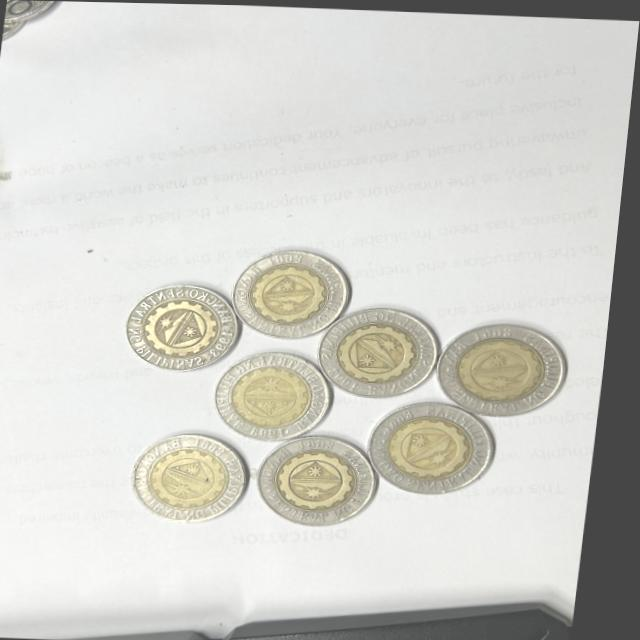10_Old_Back: (450, 321, 581, 413), (322, 306, 447, 396), (129, 280, 242, 378), (385, 401, 504, 492), (251, 436, 383, 516), (225, 350, 339, 436), (145, 432, 261, 514), (243, 248, 350, 333)
